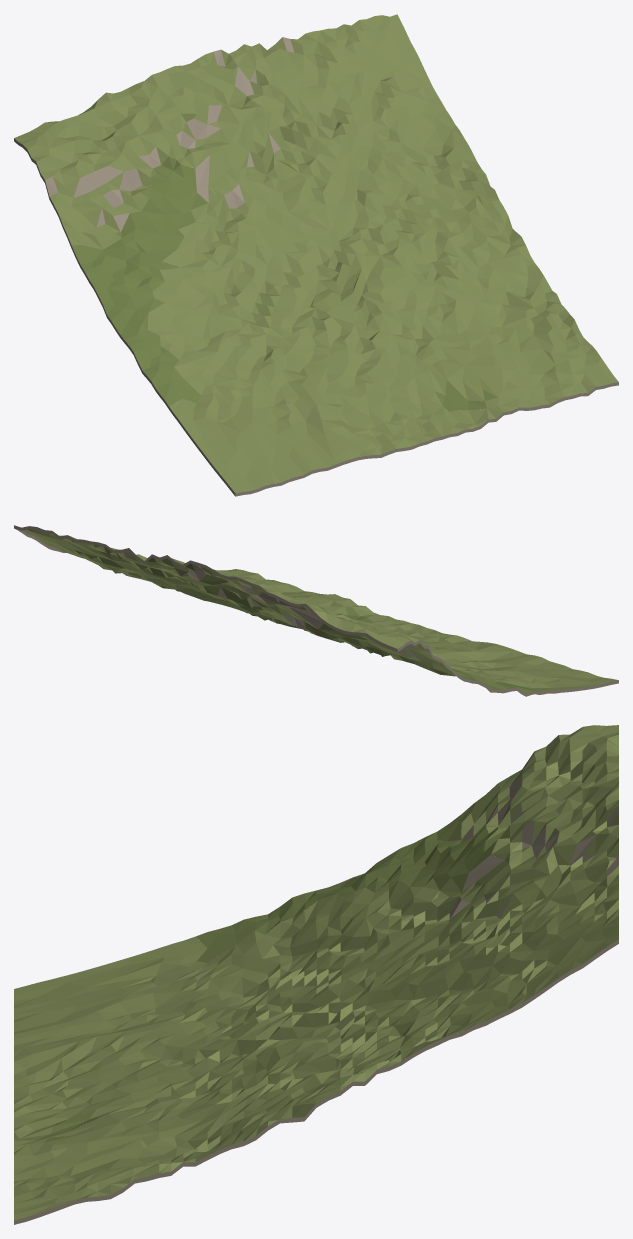
The model's file is parca_+5_-7-uzak.glb.
The picture shows the model from 3 angles, top to bottom: view 1: azimuth 30°, elevation 25°; view 2: azimuth 150°, elevation 25°; view 3: azimuth 270°, elevation 25°; orthographic projection. The views are drawn at different scales.
Visible parts, largest first — view 1: parca_+5_-7_arazi_uzak; view 2: parca_+5_-7_arazi_uzak; view 3: parca_+5_-7_arazi_uzak.
Boxes of the visible parts, box(x1,y1,x2,y2) form: parca_+5_-7_arazi_uzak: box(14, 14, 618, 496); parca_+5_-7_arazi_uzak: box(14, 525, 618, 696); parca_+5_-7_arazi_uzak: box(14, 725, 618, 1224).
Size of the model in its own units: 1000 by 588 by 1000.
